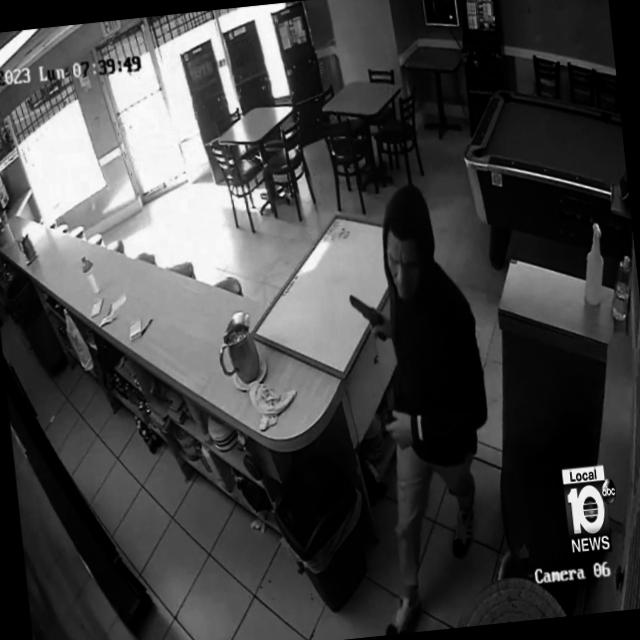gun: (346, 288, 391, 348)
person with a gun: (336, 178, 509, 635)
